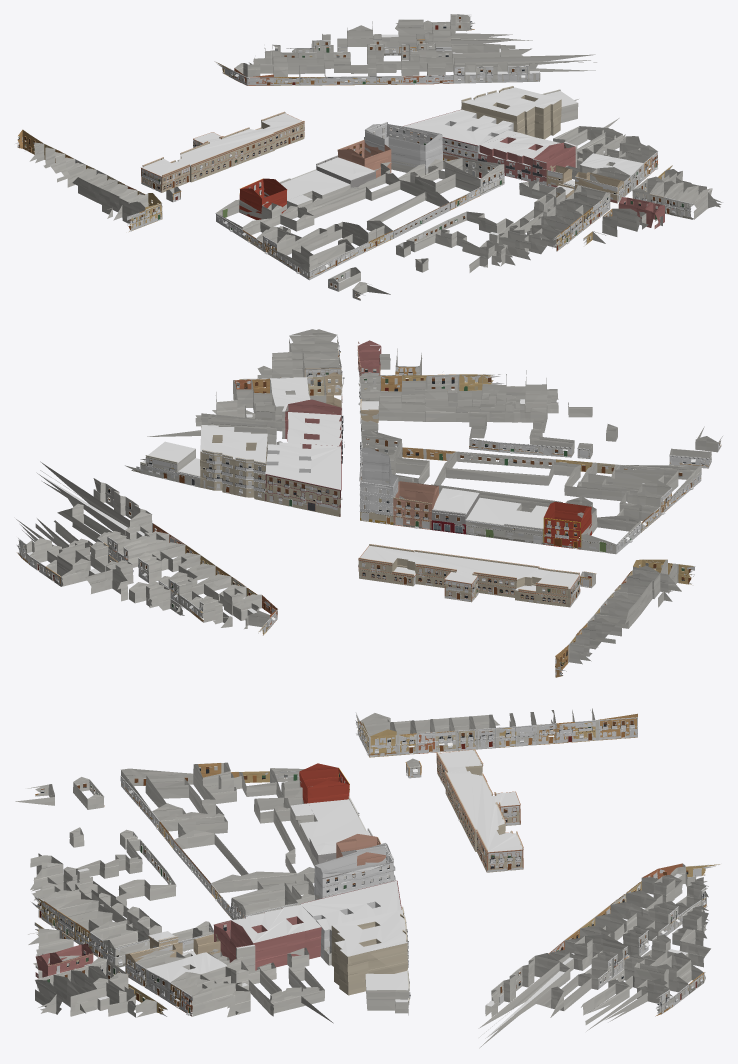
File: zona_-2_0.glb
3 views of the same model, one above another, from view 1: azimuth 30°, elevation 25°; view 2: azimuth 150°, elevation 25°; view 3: azimuth 270°, elevation 25° (orthographic). The views are drawn at different scales.
Visible parts, largest first — view 1: z_casas_-2_0, z_casas_planas_-2_0, z_fachadas_-2_0; view 2: z_casas_-2_0, z_casas_planas_-2_0, z_fachadas_-2_0; view 3: z_casas_-2_0, z_casas_planas_-2_0, z_fachadas_-2_0.
Part boxes in pixels (x1,y1,x2,y2): z_casas_-2_0: (17,14,722,299); z_casas_planas_-2_0: (141,24,644,250); z_fachadas_-2_0: (15,14,693,300); z_casas_-2_0: (18,329,722,677); z_casas_planas_-2_0: (16,377,579,615); z_fachadas_-2_0: (17,334,721,676); z_casas_-2_0: (15,708,719,1028); z_casas_planas_-2_0: (77,749,688,1048); z_fachadas_-2_0: (31,712,719,1016).
Bounding box in the file's own units: 230 × 15.11 × 213.
